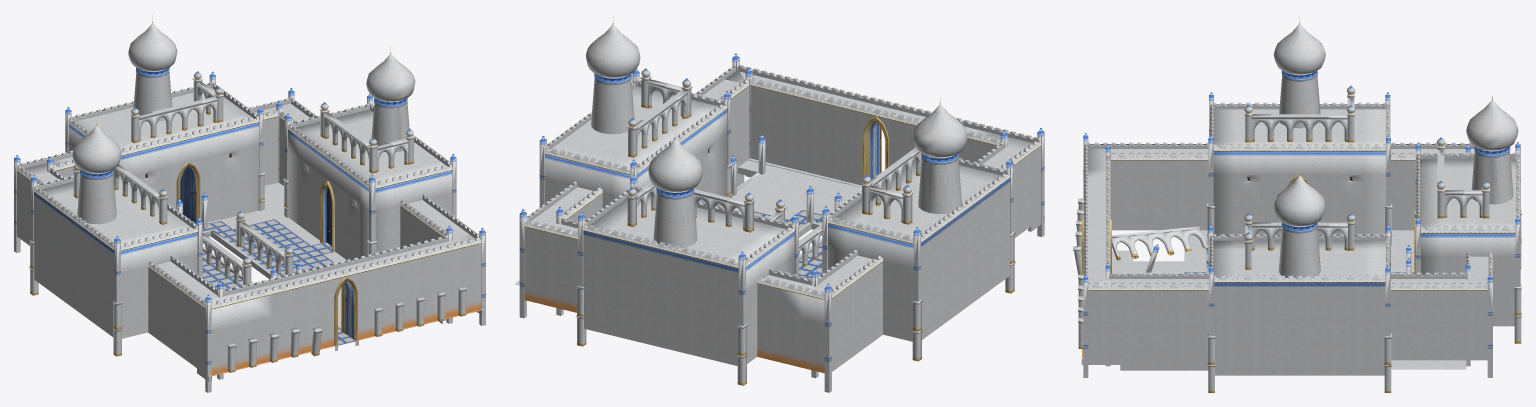
The model's file is sf_set_palace.glb.
3 views of the same model, side by side, from view 1: azimuth 30°, elevation 25°; view 2: azimuth 150°, elevation 25°; view 3: azimuth 270°, elevation 25° (orthographic). The views are drawn at different scales.
Visible parts, largest first — view 1: sf_set_palace; view 2: sf_set_palace; view 3: sf_set_palace.
Part boxes in pixels (left/top/right/bottom): sf_set_palace: left=14, top=14, right=485, bottom=392; sf_set_palace: left=514, top=16, right=1044, bottom=392; sf_set_palace: left=1073, top=15, right=1521, bottom=392.
Bounding box in the file's own units: 65.25 × 38.2 × 70.01.
Materials: 2 (2 with a texture image).
